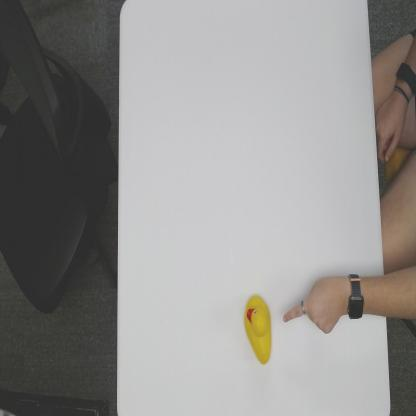Arm: (364, 274, 390, 318)
Duck: (243, 292, 273, 366)
Hand: (283, 275, 344, 335)
